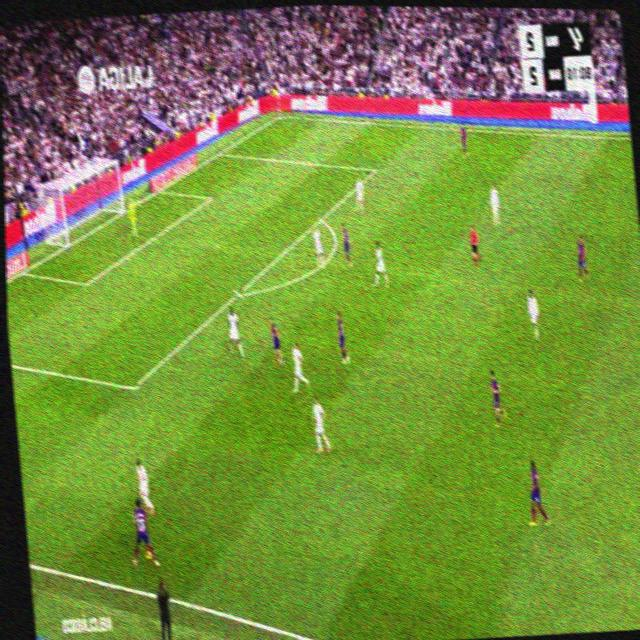bigarea_bottom_inner: (125, 375, 139, 399)
bigarea_top_inner: (371, 163, 378, 175)
bigarea_top_outter: (215, 146, 223, 157)
bottom_arc_area_intersection: (232, 283, 243, 302)
corner: (274, 110, 284, 119)
smallarea_bottom_inner: (81, 274, 90, 292)
smallarea_top_inner: (207, 193, 213, 202)
top_arc_area_intersection: (317, 212, 323, 223)
